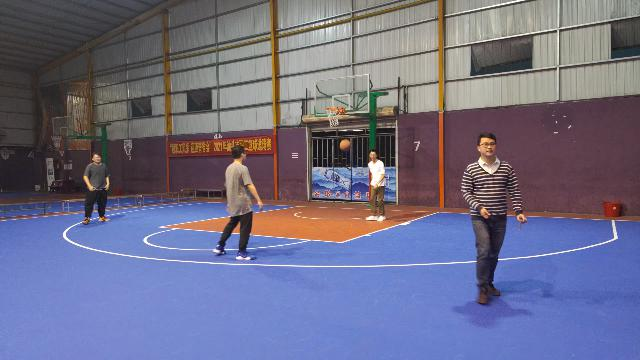ball: (340, 138, 350, 150)
